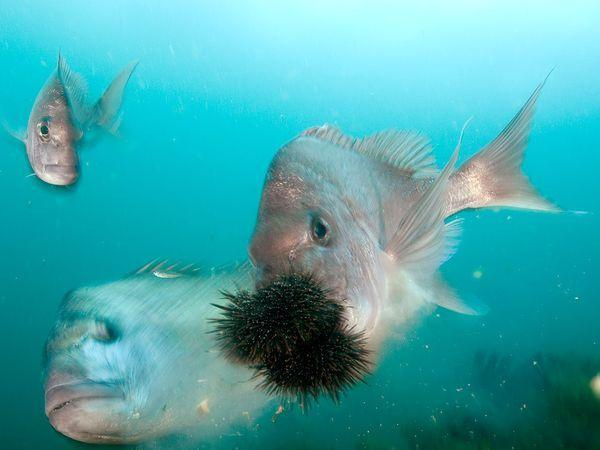urchin: (202, 260, 380, 418)
